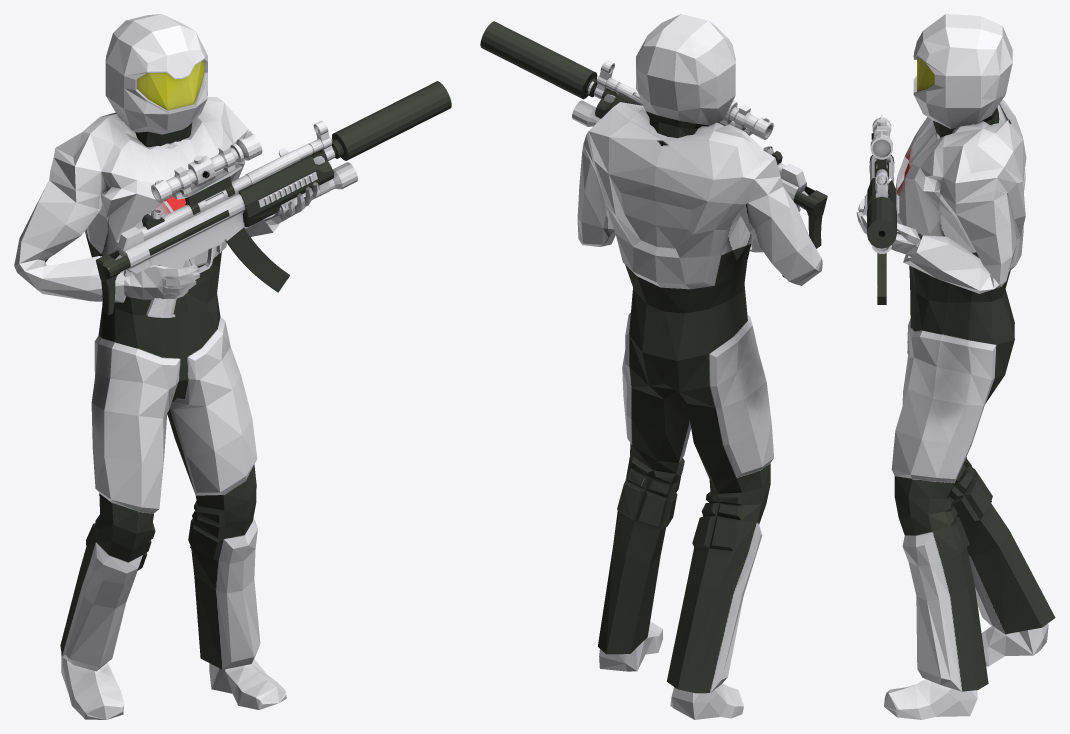
The model's file is walk10.obj.
3 renders of one model, left to right at view 1: azimuth 30°, elevation 25°; view 2: azimuth 150°, elevation 25°; view 3: azimuth 270°, elevation 25°, orthographic. The views are drawn at different scales.
Visible parts, largest first — view 1: Male001Skin_001, Object001; view 2: Male001Skin_001, Object001; view 3: Male001Skin_001, Object001.
Boxes of the visible parts, box(x1,y1,x2,y2) form: Male001Skin_001: box(14, 14, 318, 719); Object001: box(96, 81, 451, 317); Male001Skin_001: box(577, 14, 822, 719); Object001: box(480, 21, 827, 252); Male001Skin_001: box(856, 14, 1055, 719); Object001: box(864, 114, 899, 304).
Bounding box in the file's own units: 1111 × 1889 × 514.
1 material, 1 textured.
